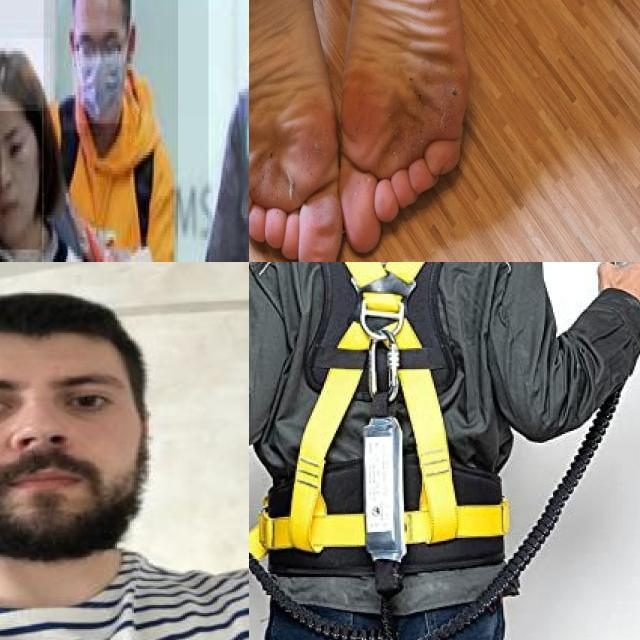Barefoots: (338, 0, 468, 253), (249, 0, 343, 262)
Harness: (249, 262, 506, 558)
No_Glasses: (0, 352, 138, 429)
face_mask: (72, 17, 127, 124)
face_nomask: (0, 362, 146, 565), (0, 111, 42, 249)
glasses: (72, 35, 122, 70)
head_nohelmet: (0, 286, 151, 361), (0, 38, 49, 107)
person: (0, 278, 249, 640), (43, 0, 179, 262), (0, 54, 95, 262)
